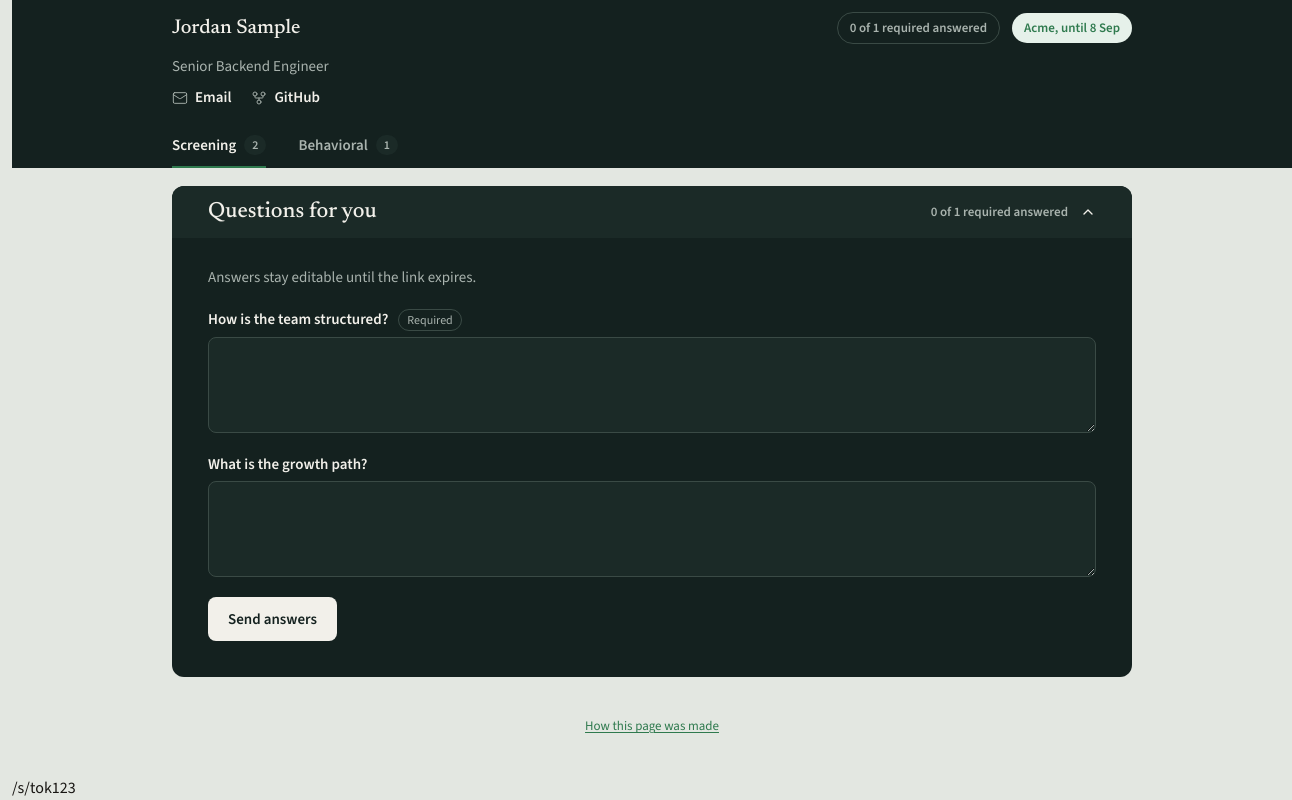
Test: SessionPage › blocks submission client-side when a required question is empty
(page scrolled)
Check: the heading "Jordan Sample" is shown, box x1=172 y1=18 x2=300 y2=38
Click the button "Send answers" at (272, 619), box x1=208 y1=597 x2=337 y2=641
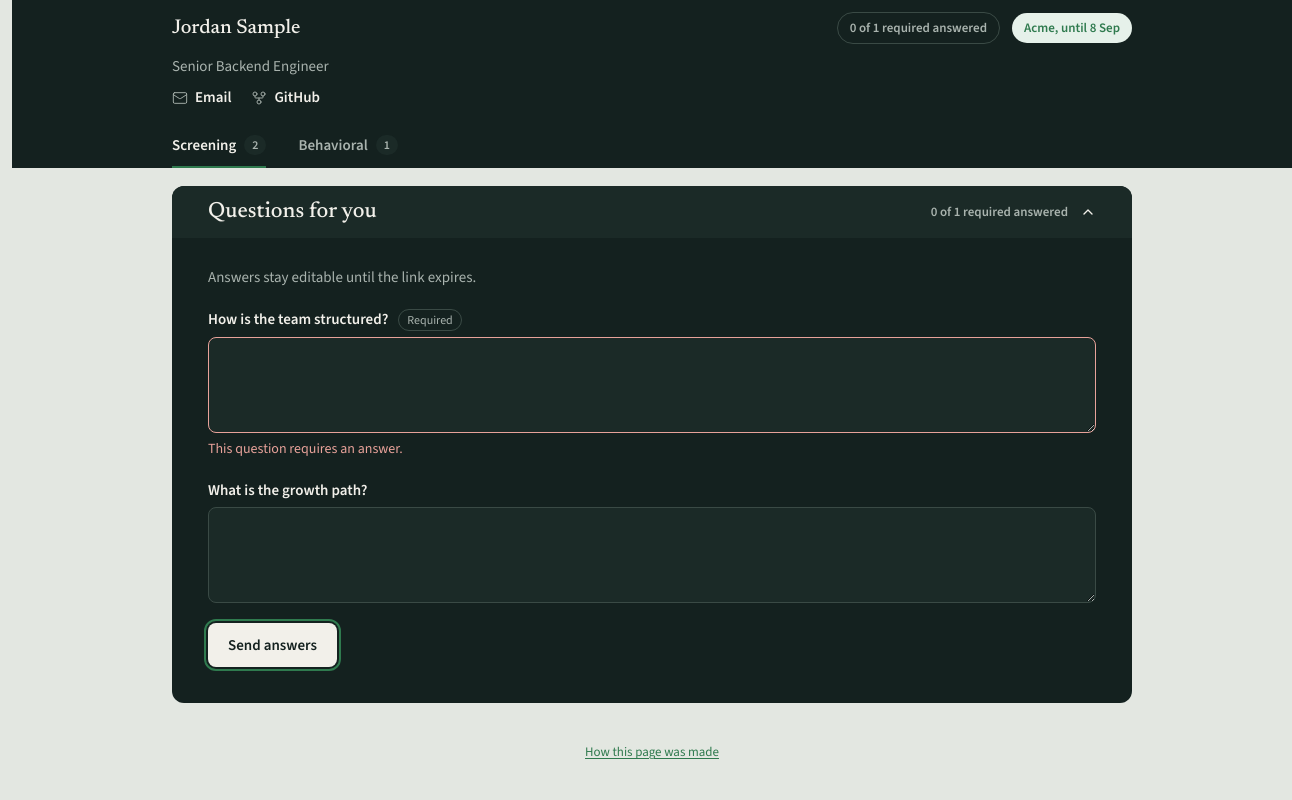
Check: the text "This question requires an answer." is shown, box x1=208 y1=439 x2=403 y2=458
